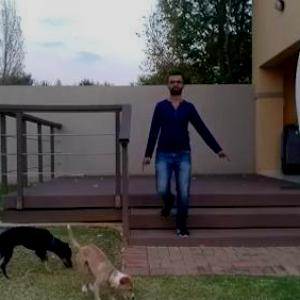land: (136, 78, 219, 233)
